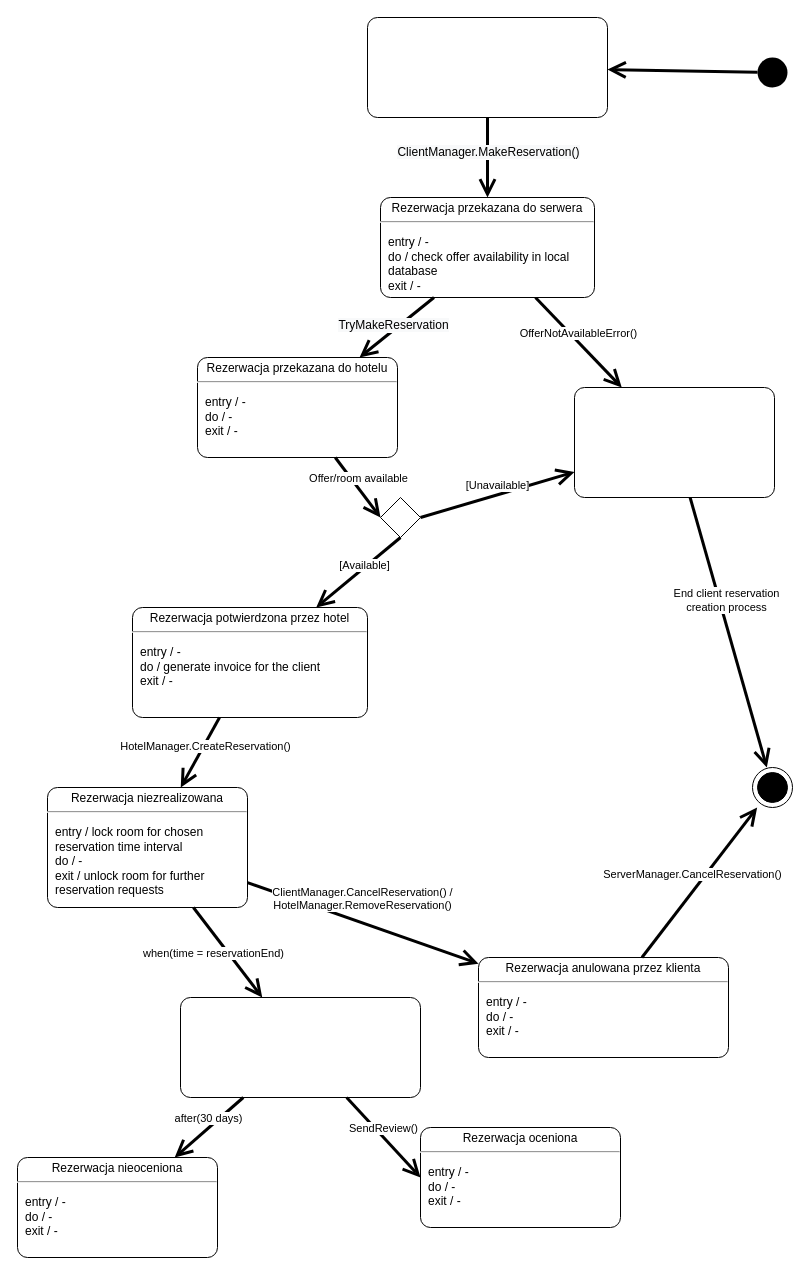
Image size: 810x1275. Some labels were removed from this diagram. Each missing label, with the centre of its shape:
Rezerwacja niemożliwa entry / send and display error to client do / - exit / -: point (674, 442)
Rezerwacja utworzona przez klienta entry / - do / - exit / -: point (487, 67)
Rezerwacja zrealizowana entry / allow client to create a review do / - exit / -: point (300, 1047)
